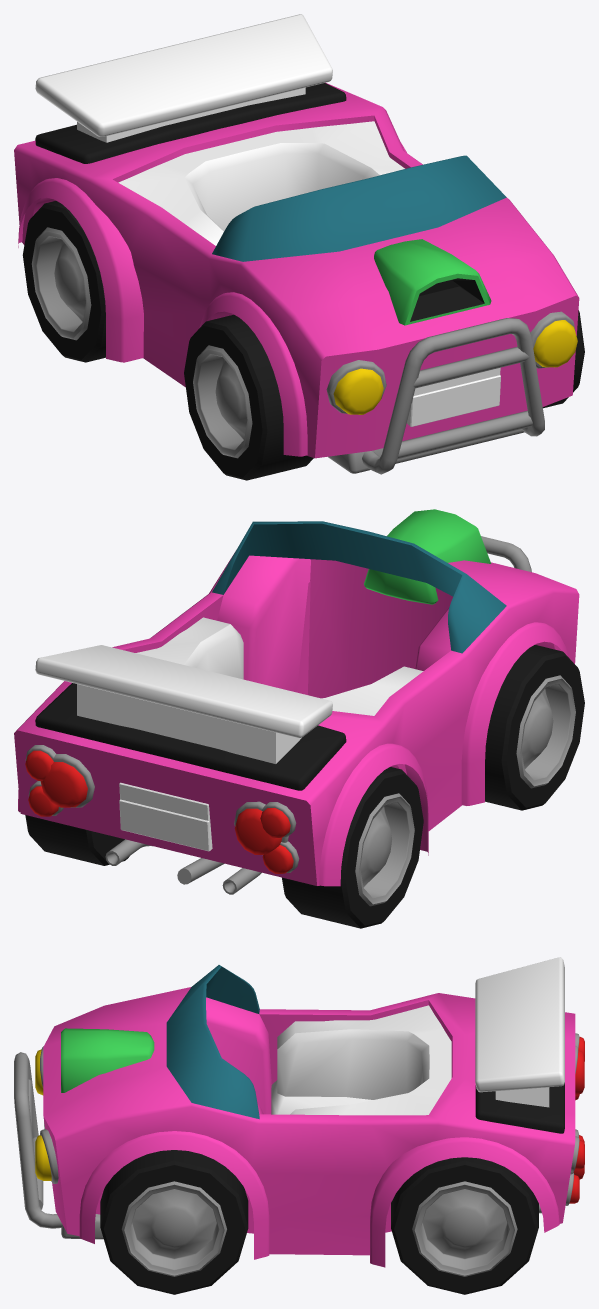
File: car.FBX
3 views of the same model, one above another, from view 1: azimuth 30°, elevation 25°; view 2: azimuth 150°, elevation 25°; view 3: azimuth 270°, elevation 25° (orthographic). The views are drawn at different scales.
Visible parts, largest first — view 1: chassis_hotrod, chassis_sedan, wheelFR, wheelRR, wheel_FL; view 2: chassis_hotrod, chassis_sedan, wheelFR, wheelRR, wheelRL; view 3: chassis_hotrod, wheel_FL, wheelRL, chassis_sedan.
Part boxes in pixels (x1,y1,x2,y2): chassis_hotrod: (14,14,579,474); chassis_sedan: (35,83,500,395); wheelFR: (184,314,313,480); wheelRR: (22,201,105,362); wheel_FL: (542,310,584,408); chassis_hotrod: (14,521,579,894); chassis_sedan: (25,509,491,884); wheelFR: (485,645,584,810); wheelRR: (282,767,423,928); wheelRL: (25,815,129,865); chassis_hotrod: (14,957,584,1267); wheel_FL: (100,1150,248,1294); wheelRL: (391,1157,538,1294); chassis_sedan: (44,1028,584,1205).
Bounding box in the file's own units: 138 × 98.88 × 231.
